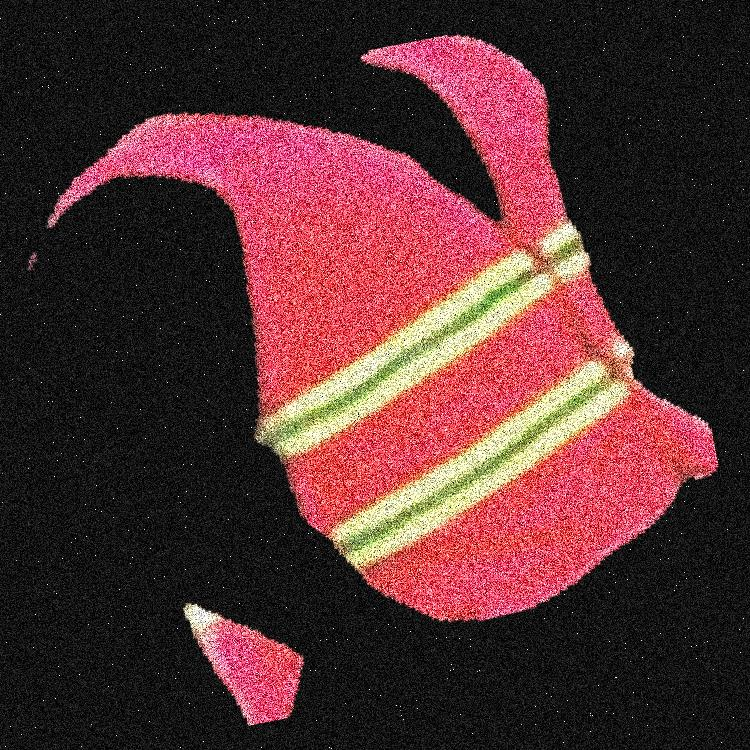Colete: (371, 0, 584, 749)
